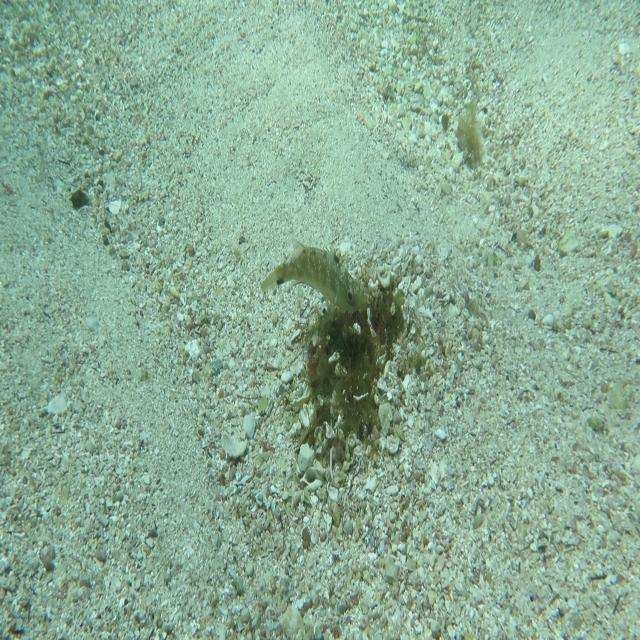FAN: (256, 233, 369, 315)
core_nest: (356, 295, 396, 333)
nest: (288, 259, 417, 471)
vegetation: (455, 95, 486, 165), (69, 186, 92, 210)
